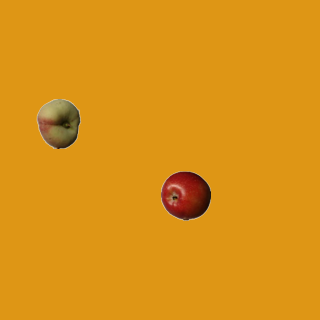Apple Braeburn: (160, 170, 210, 220)
Peach Flat: (33, 98, 83, 148)
